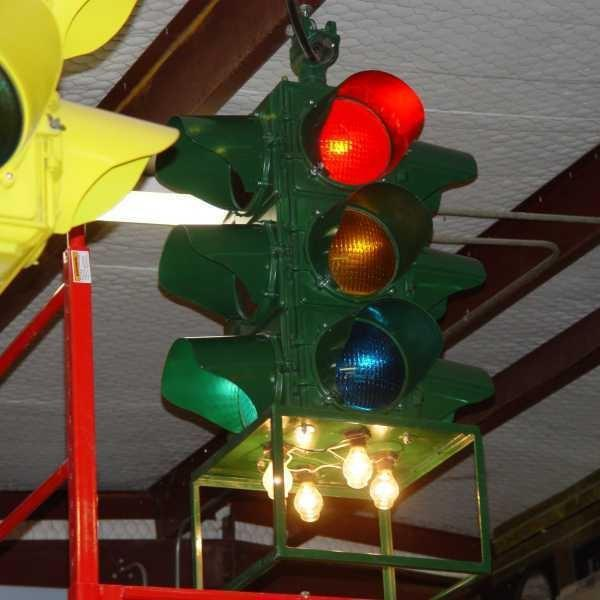red: (271, 72, 450, 412)
